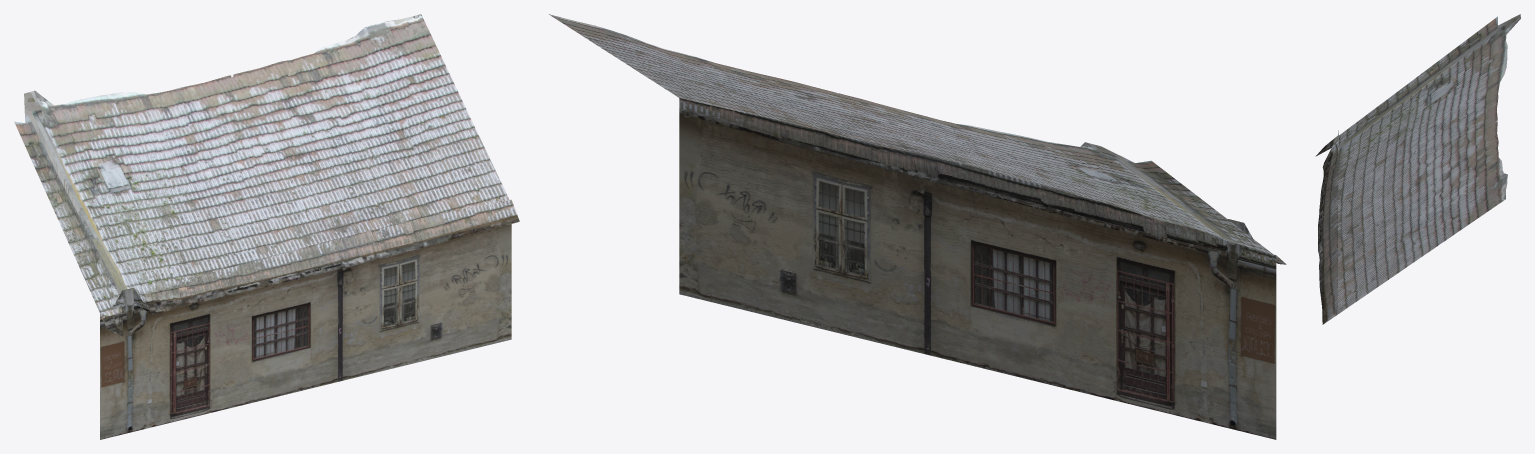
The model's file is house_b.glb.
3 renders of one model, left to right at view 1: azimuth 30°, elevation 25°; view 2: azimuth 150°, elevation 25°; view 3: azimuth 270°, elevation 25°, orthographic. The views are drawn at different scales.
Parts seen in each view (by area): view 1: old_house_2a; view 2: old_house_2a; view 3: old_house_2a.
Part boxes in pixels (x1,y1,x2,y2): old_house_2a: (14,14,519,439); old_house_2a: (549,14,1286,439); old_house_2a: (1315,14,1520,324).
Bounding box in the file's own units: 7.8 × 4.87 × 3.64.
Materials: 1 (1 with a texture image).
